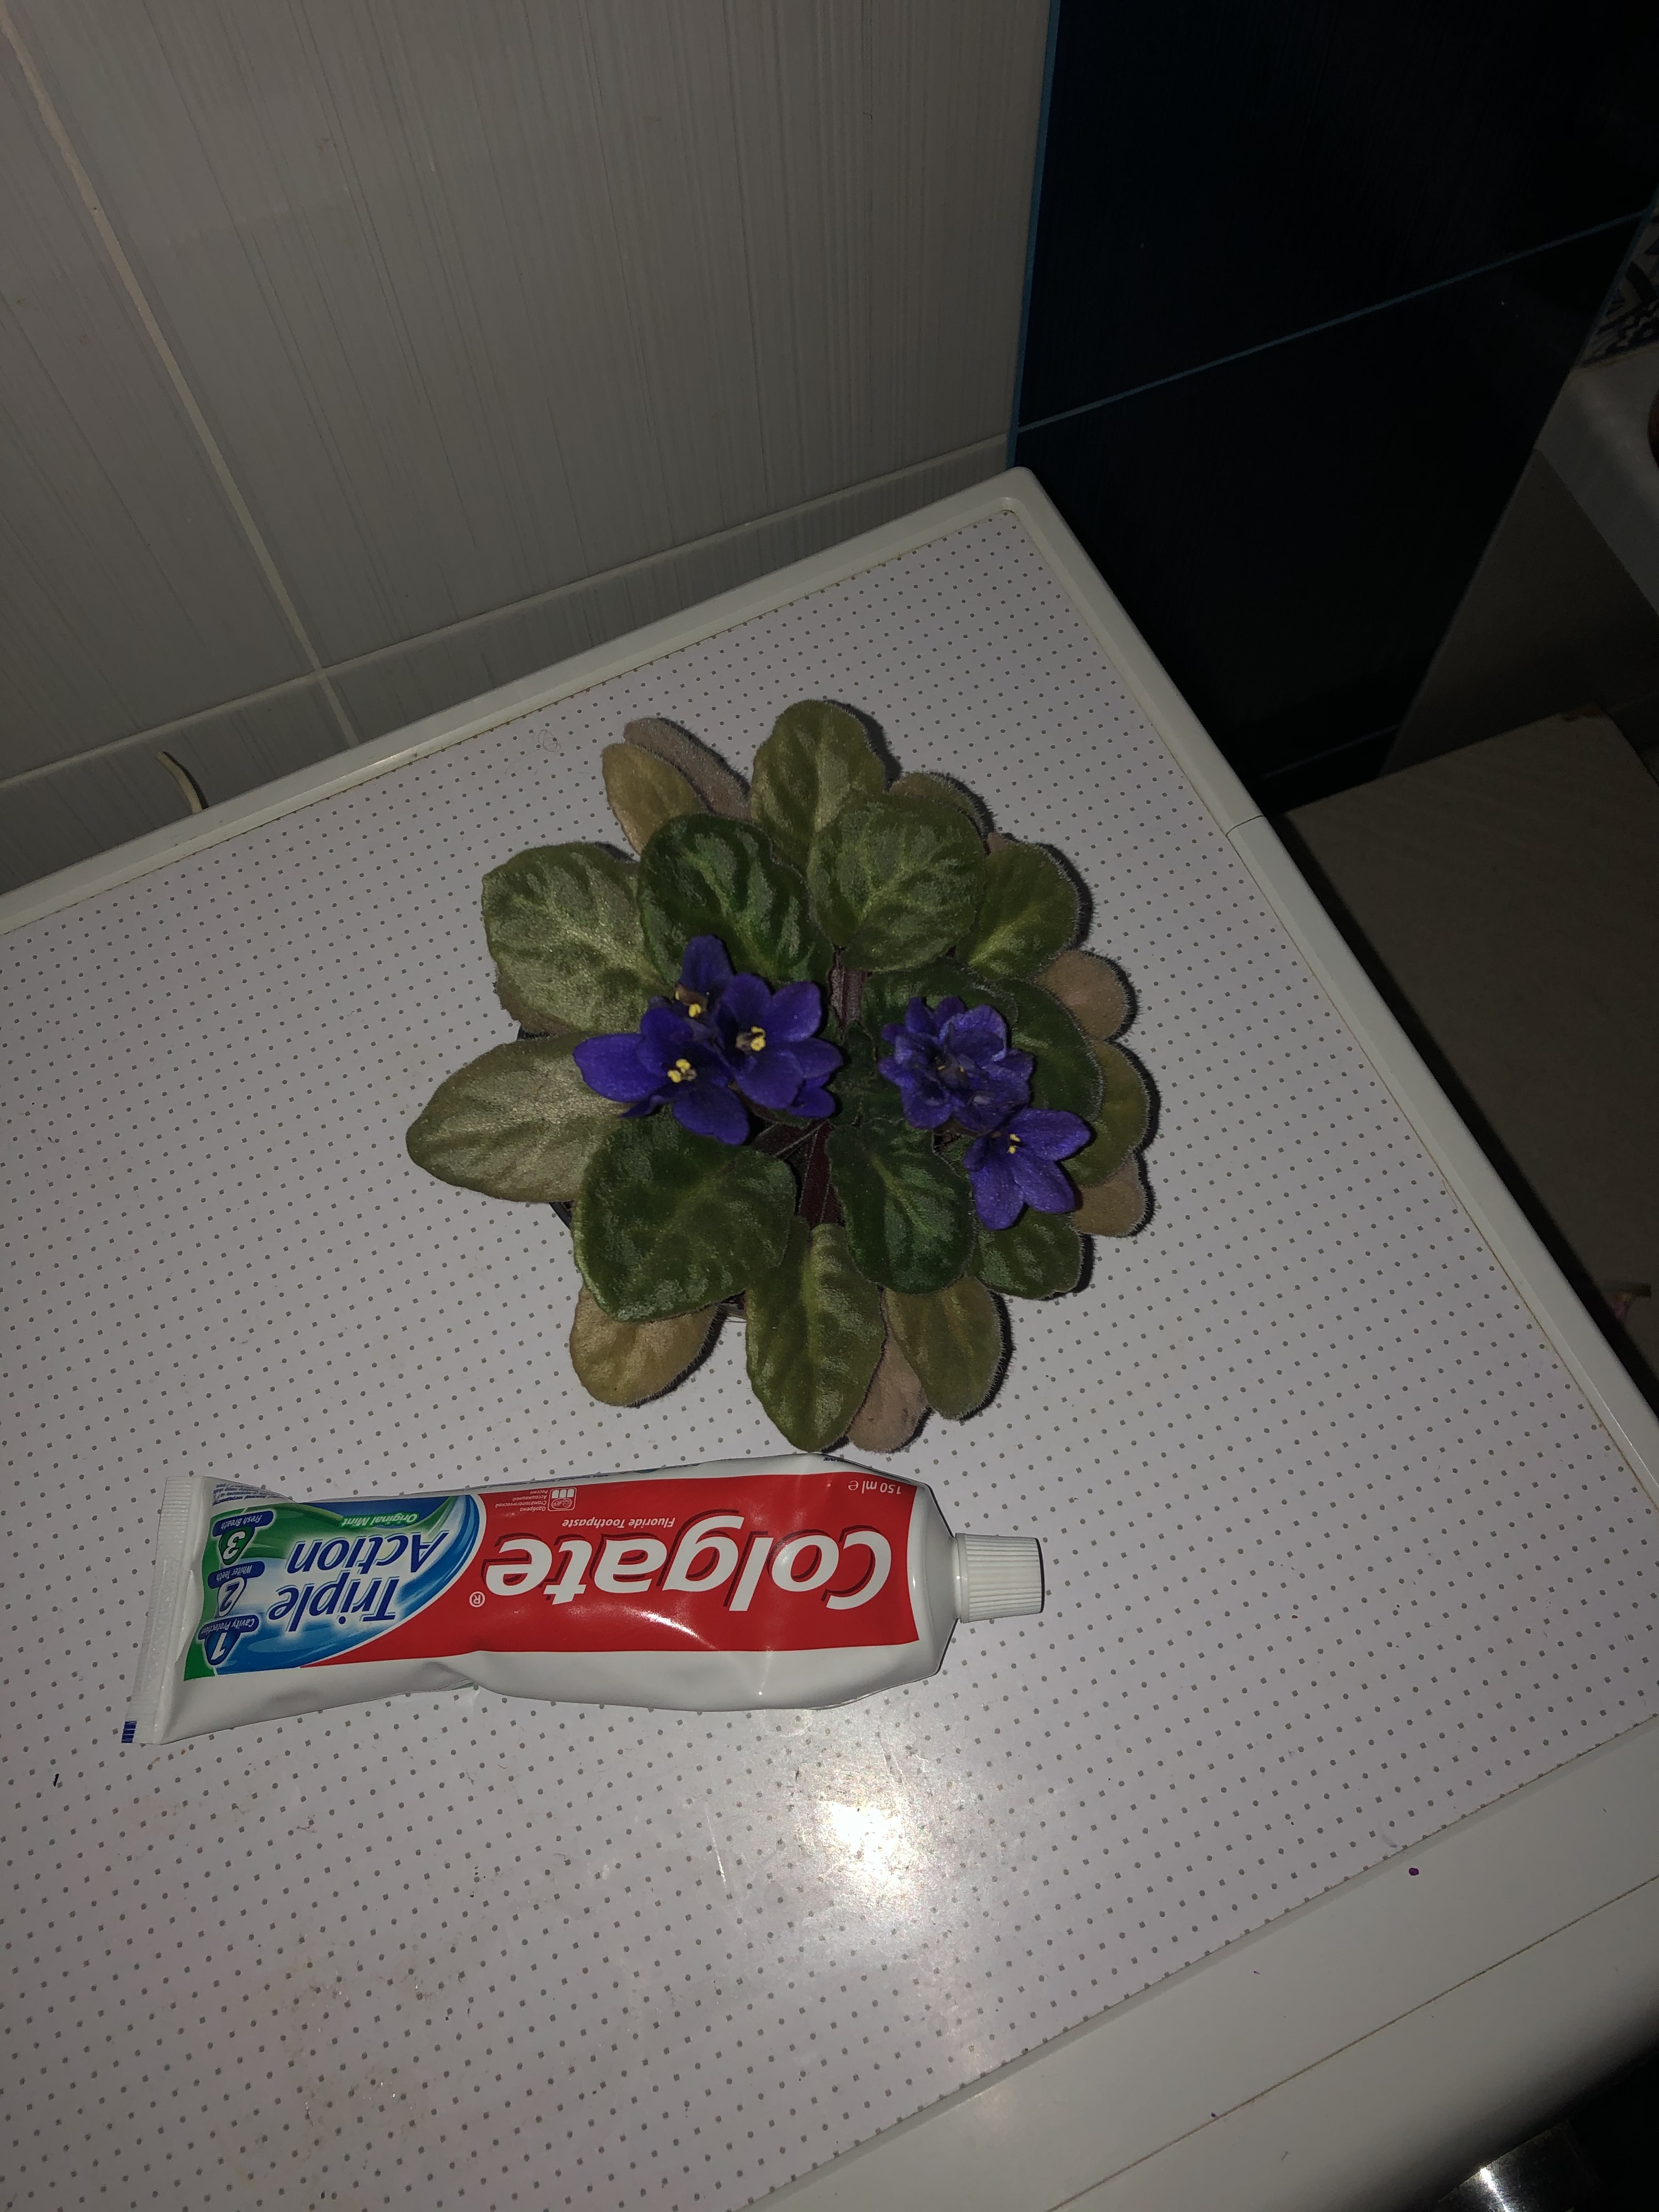ignore: (375, 664, 1192, 1472)
